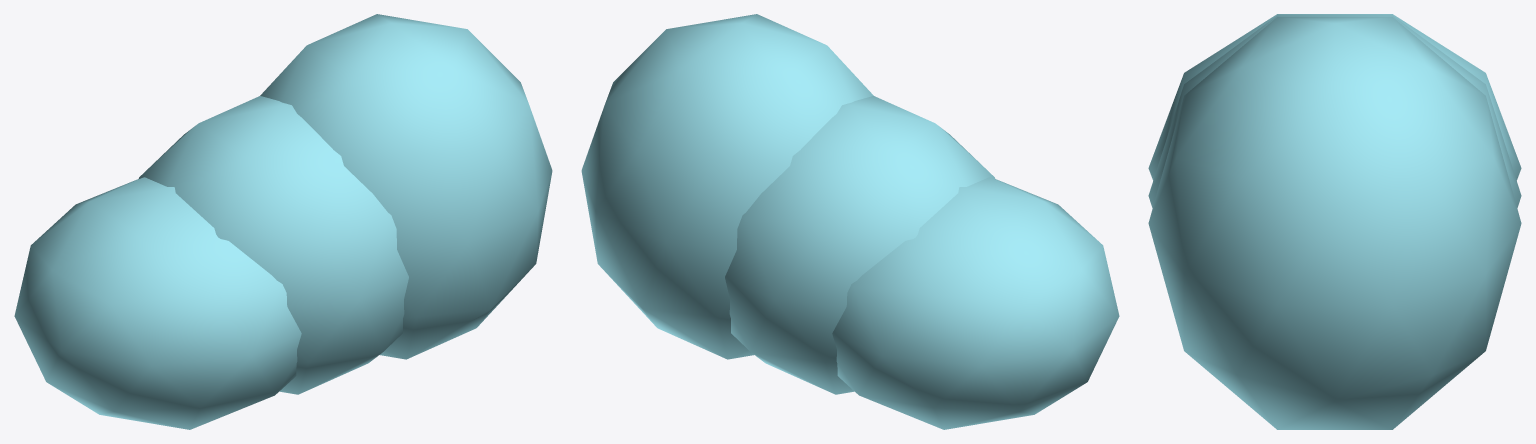
File: Ice_cluster.glb
3 renders of one model, left to right at view 1: azimuth 30°, elevation 25°; view 2: azimuth 150°, elevation 25°; view 3: azimuth 270°, elevation 25°, orthographic. The views are drawn at different scales.
Visible parts, largest first — view 1: Rock.005, Rock.003, Rock.004; view 2: Rock.005, Rock.003, Rock.004; view 3: Rock.005, Rock.004, Rock.003.
Boxes of the visible parts, bbox=[...] form: Rock.005: bbox=[260, 14, 552, 359]; Rock.003: bbox=[14, 177, 301, 429]; Rock.004: bbox=[138, 96, 408, 394]; Rock.005: bbox=[581, 14, 873, 359]; Rock.003: bbox=[832, 177, 1119, 429]; Rock.004: bbox=[725, 96, 995, 394]; Rock.005: bbox=[1148, 17, 1521, 429]; Rock.004: bbox=[1148, 15, 1521, 207]; Rock.003: bbox=[1148, 14, 1521, 180].
Size of the model in its own units: 2.04 by 1.34 by 1.1.
